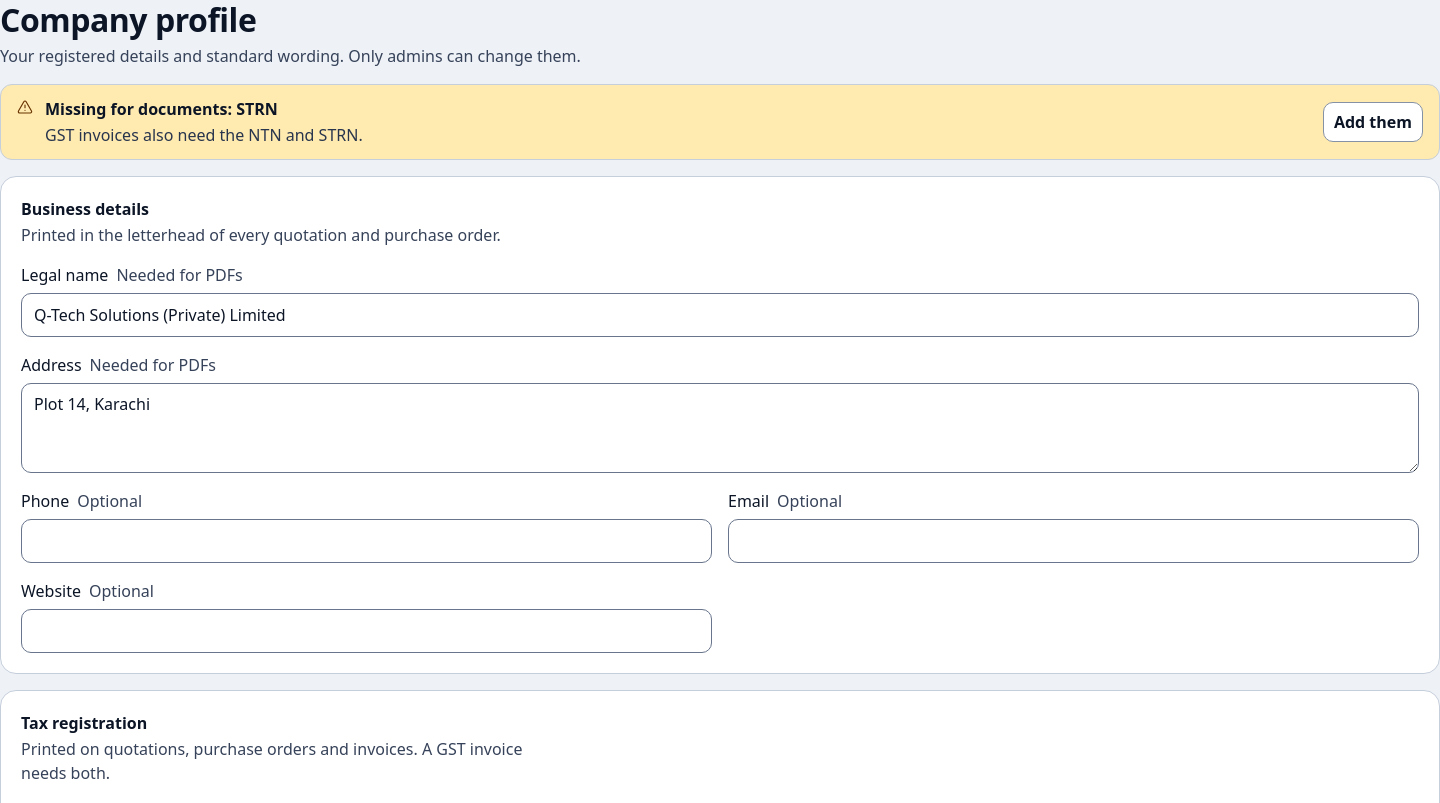
it: Company profile screen › shows a validation message in place and does not save
The width and height of the screenshot is (1440, 803).
Type "nope" into the field labelled "Email" at (1074, 541), box [728,519,1419,563]
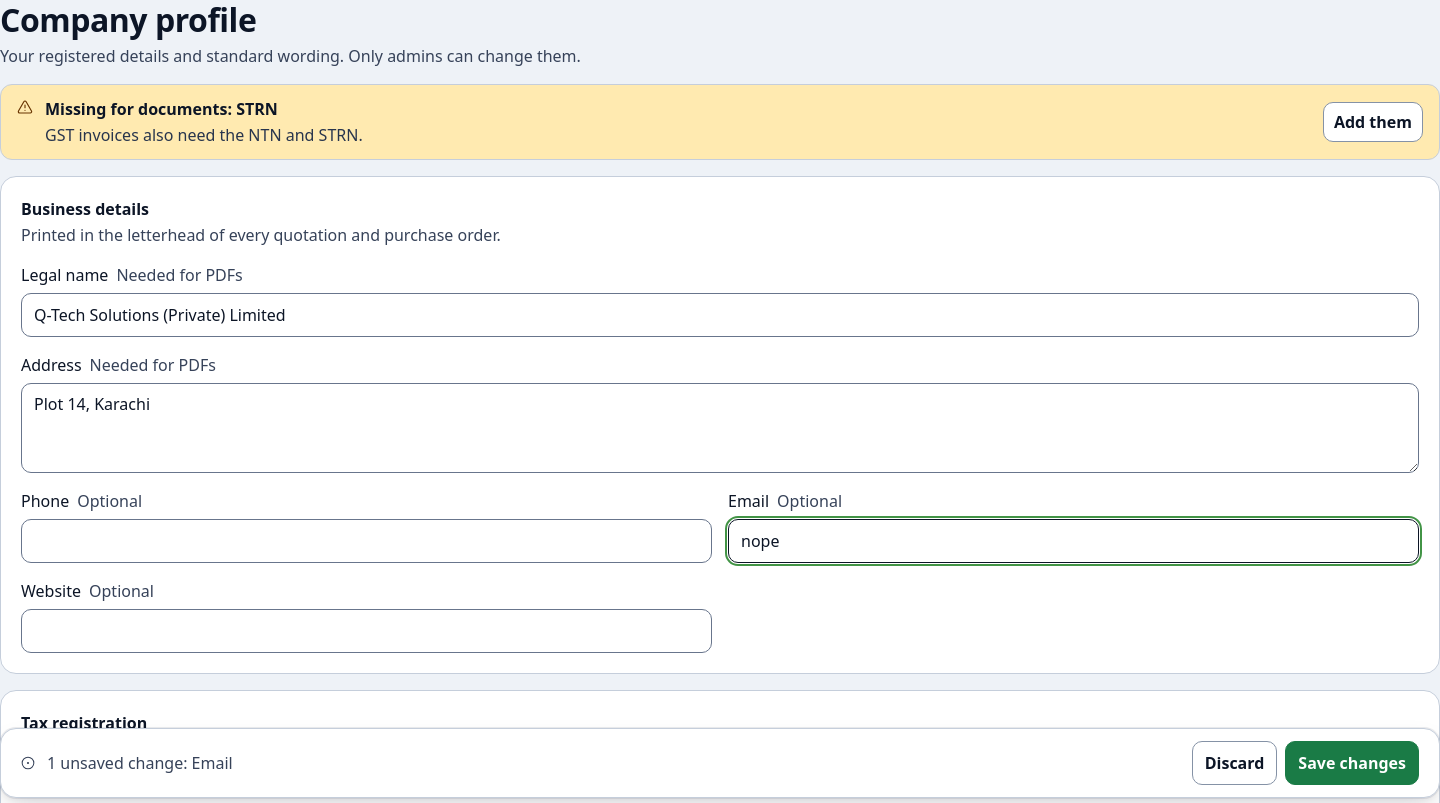
Click the button "Save changes" at (1352, 763), box [1285,741,1419,785]
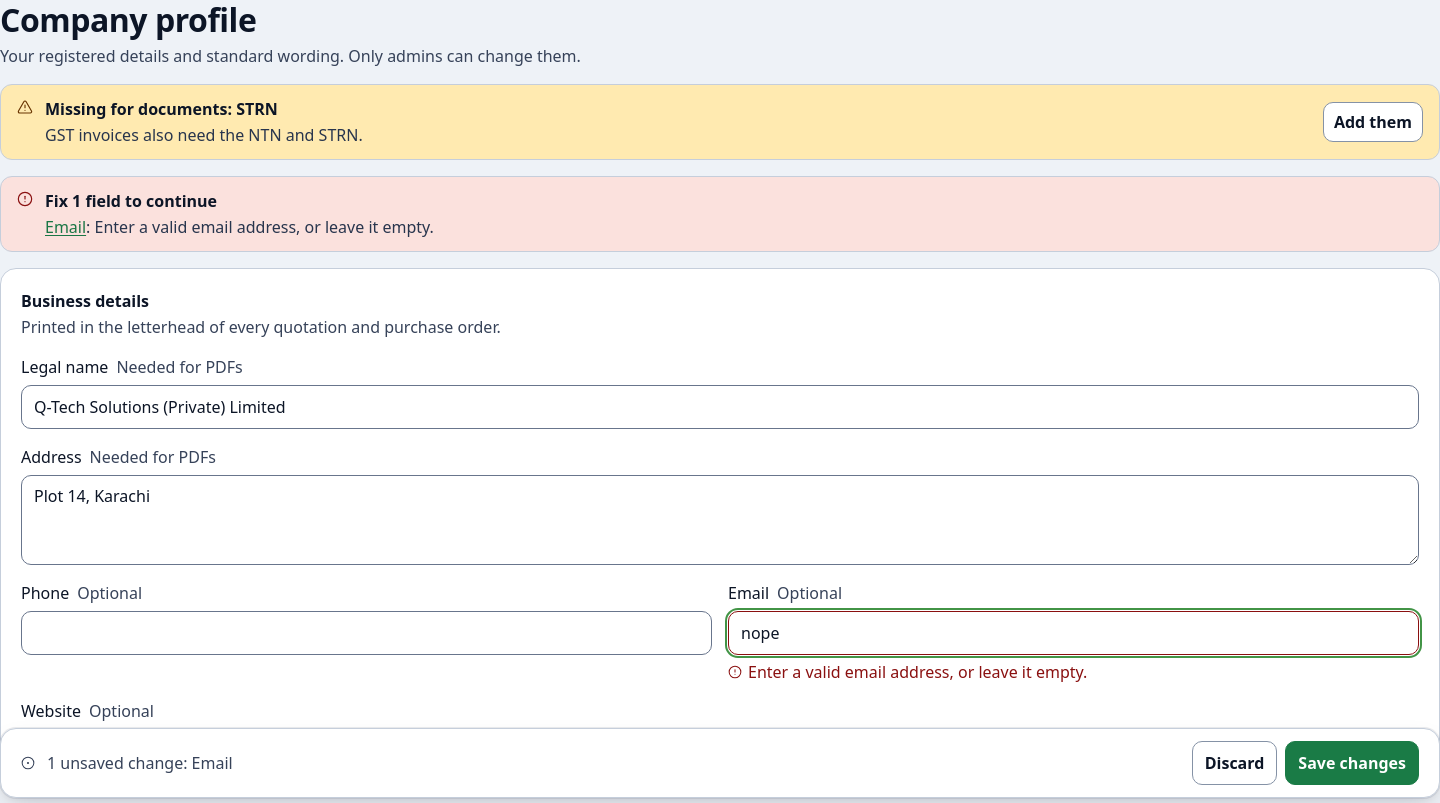
Expected: the text "Enter a valid email address, or leave it empty." is shown, [748,661,1087,683]
